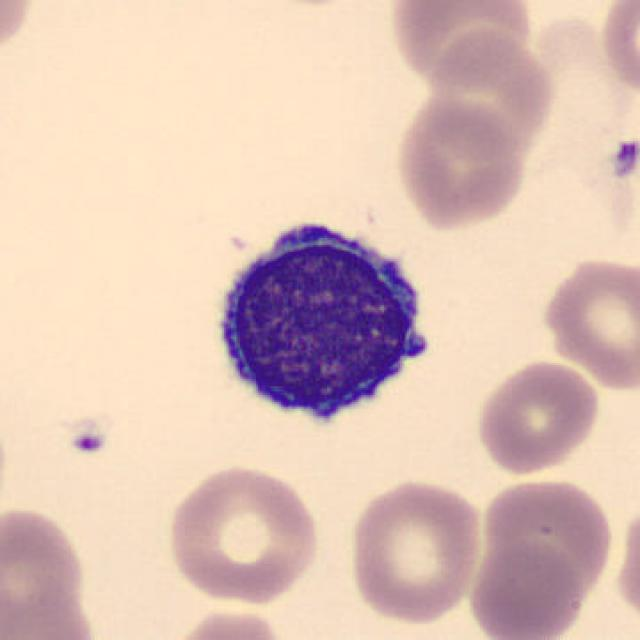Lymphocyte: (196, 206, 448, 443)
Platelets: (62, 416, 112, 462), (606, 132, 638, 185)
RBC: (164, 460, 324, 607), (345, 476, 487, 626), (391, 93, 532, 233), (423, 25, 558, 162), (476, 474, 617, 603), (471, 356, 605, 478), (537, 252, 640, 395), (384, 0, 539, 90), (466, 536, 586, 640), (0, 500, 91, 634), (0, 580, 101, 640), (595, 0, 638, 102), (163, 606, 289, 640), (611, 495, 640, 631), (0, 1, 39, 70)
